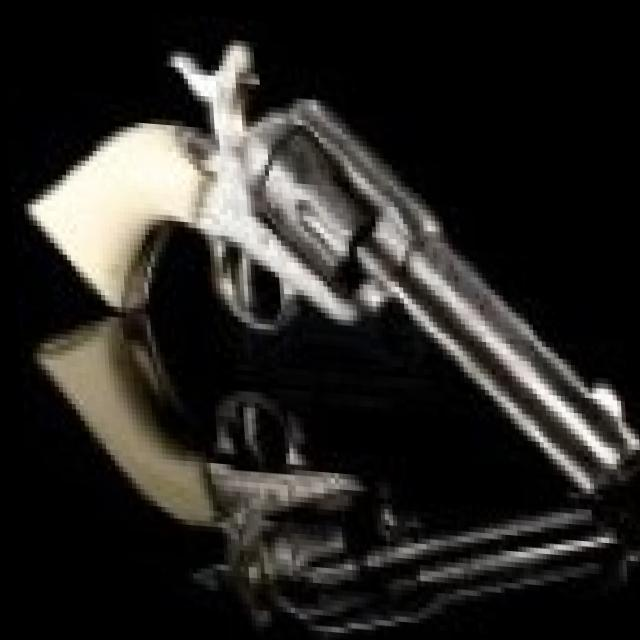handgun: (4, 11, 638, 504)
